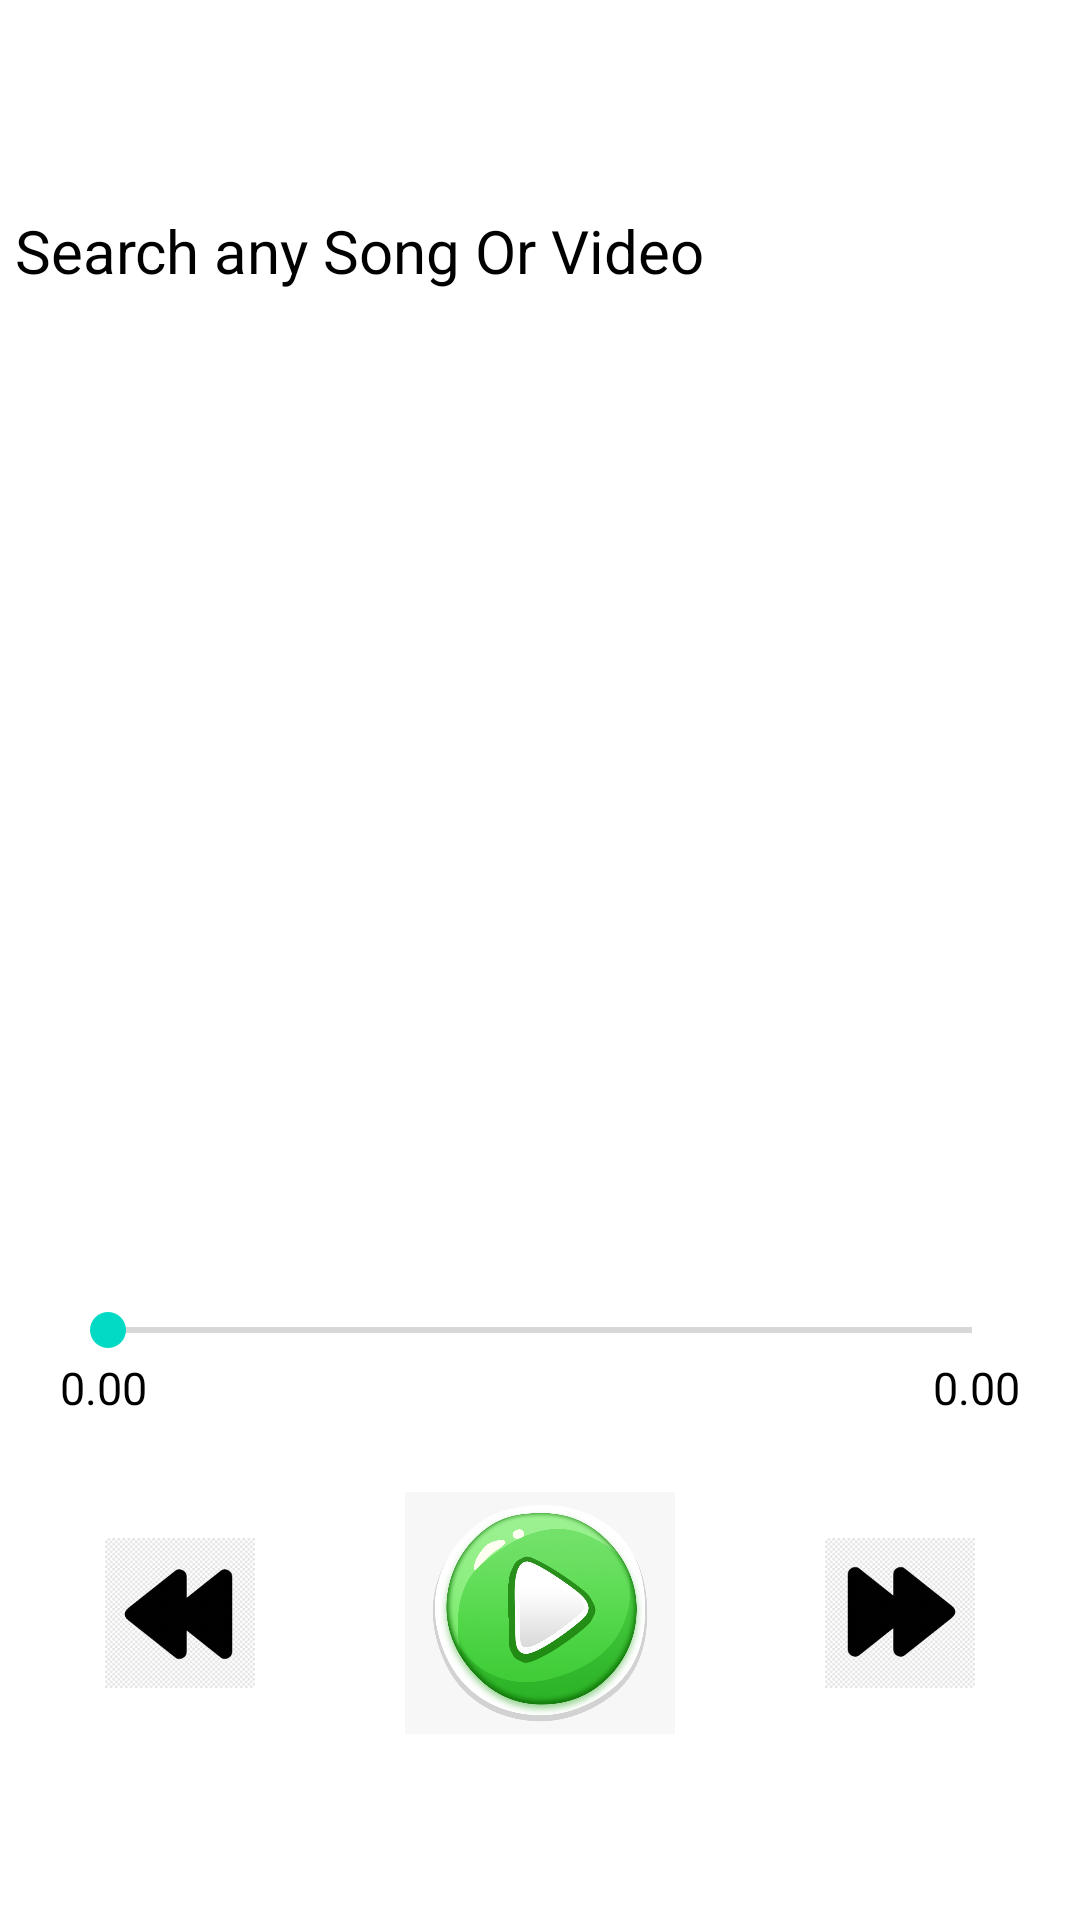

Point at icon controls on the screen. Image size 1080x1920, points as point (x, y).
backward: point (180, 1613)
forward: point (900, 1613)
play: point (540, 1617)
